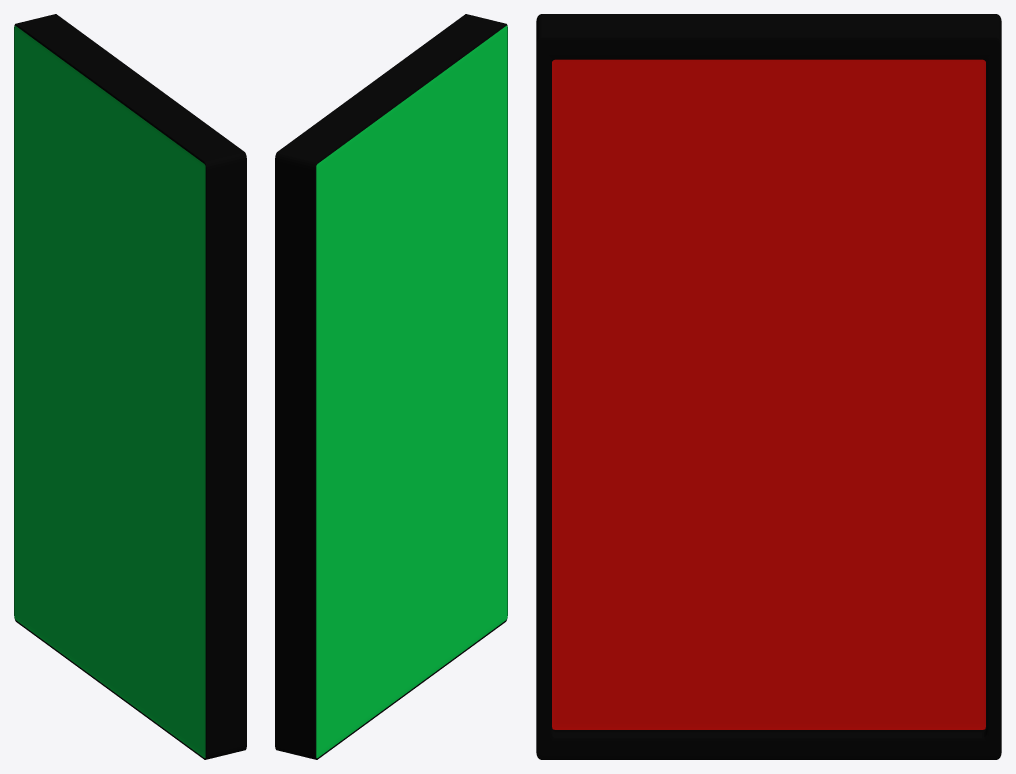
Rendered from CardModel.fbx.
The picture shows the model from 3 angles, left to right: view 1: azimuth 30°, elevation 25°; view 2: azimuth 150°, elevation 25°; view 3: azimuth 270°, elevation 25°; orthographic projection. The views are drawn at different scales.
Visible parts, largest first — view 1: Cube; view 2: Cube; view 3: Cube.
Boxes of the visible parts, x1,y1,x2,y2 form: Cube: (14,14,246,759); Cube: (275,14,507,759); Cube: (536,14,1001,759).
Size of the model in its own units: 43.59 by 605 by 353.
